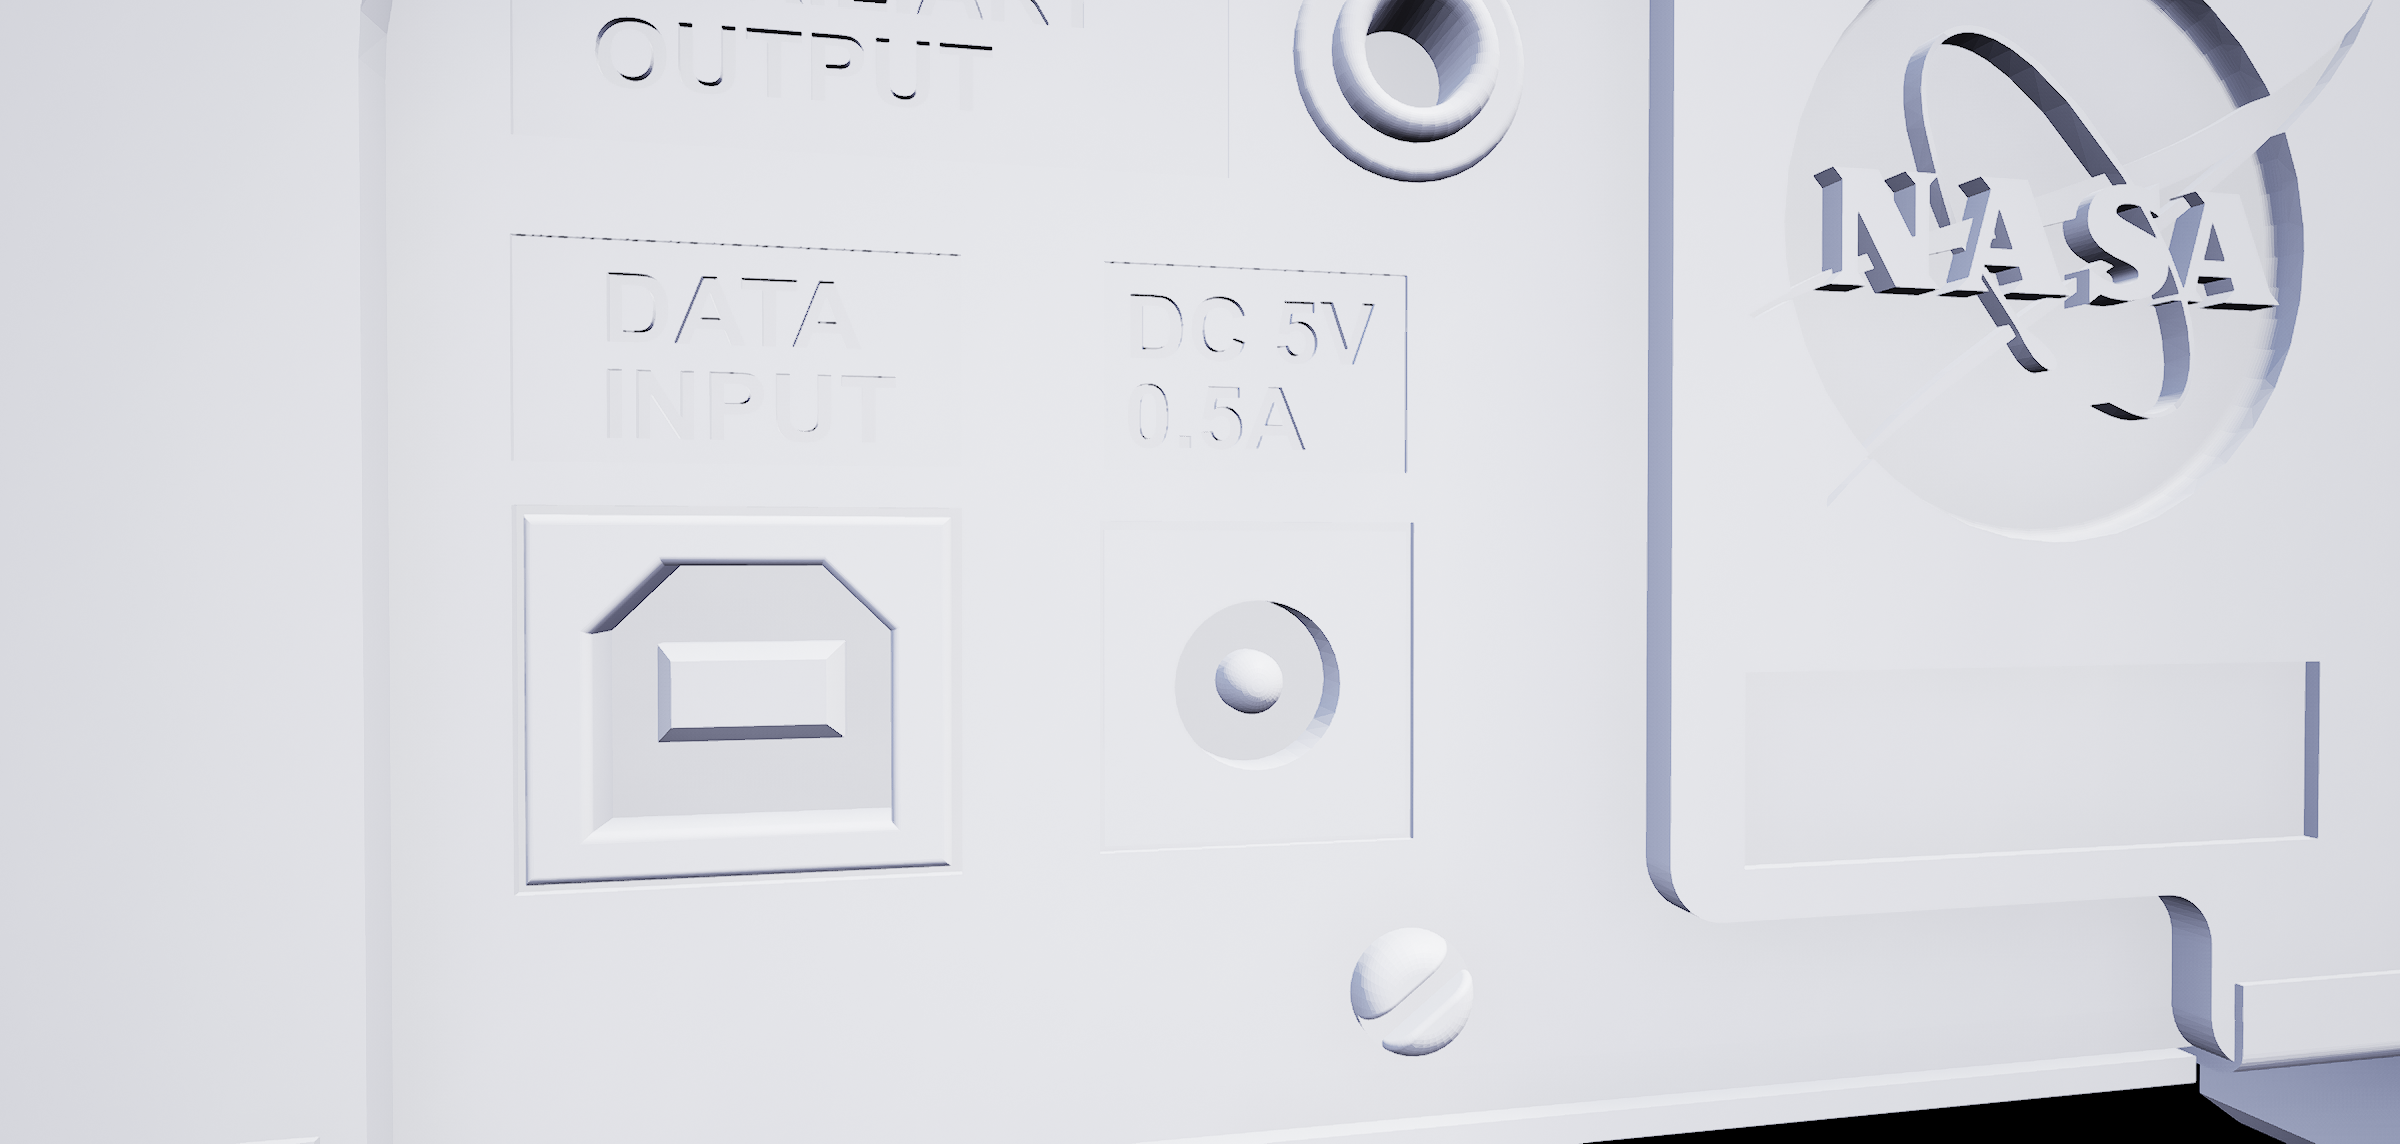aux: (1280, 2, 1537, 190)
dc: (1160, 580, 1362, 786)
usb: (569, 550, 915, 859)
